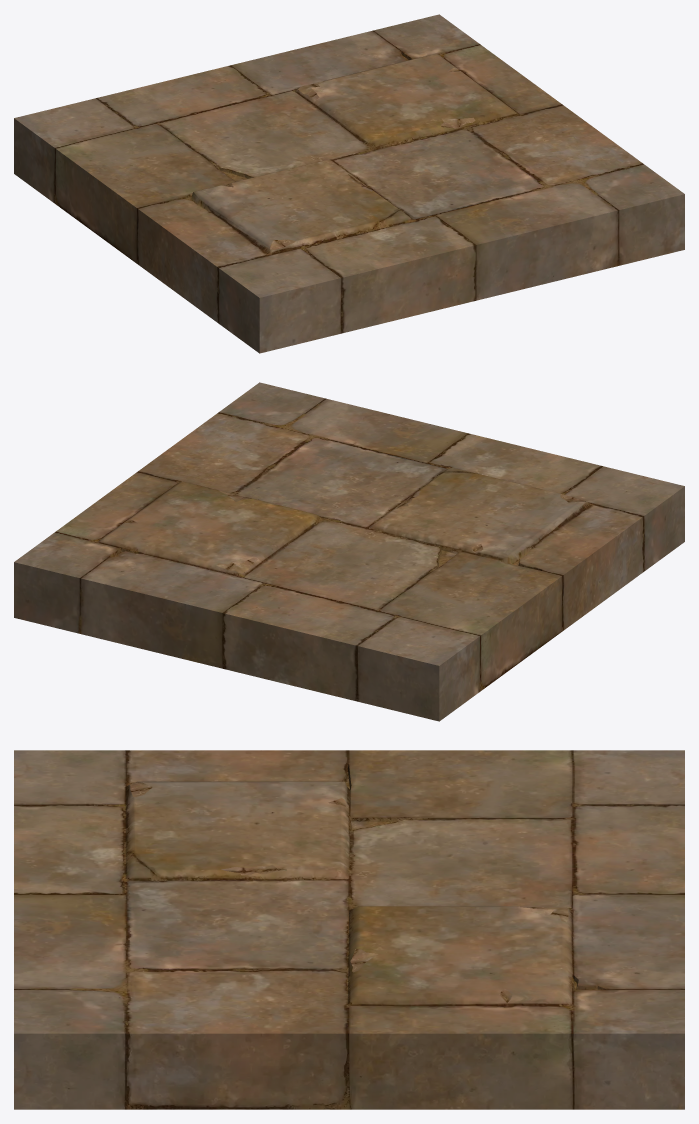
3 renders of one model, top to bottom at view 1: azimuth 30°, elevation 25°; view 2: azimuth 150°, elevation 25°; view 3: azimuth 270°, elevation 25°, orthographic. The views are drawn at different scales.
Parts seen in each view (by area): view 1: SM_Vault_4m_Floor_01_v4_LOD0; view 2: SM_Vault_4m_Floor_01_v4_LOD0; view 3: SM_Vault_4m_Floor_01_v4_LOD0.
Part boxes in pixels (x1,y1,x2,y2): SM_Vault_4m_Floor_01_v4_LOD0: (14,14,684,353); SM_Vault_4m_Floor_01_v4_LOD0: (14,382,684,721); SM_Vault_4m_Floor_01_v4_LOD0: (14,750,684,1109).
Bounding box in the file's own units: 4 × 0.543 × 4.
1 material, 1 textured.
